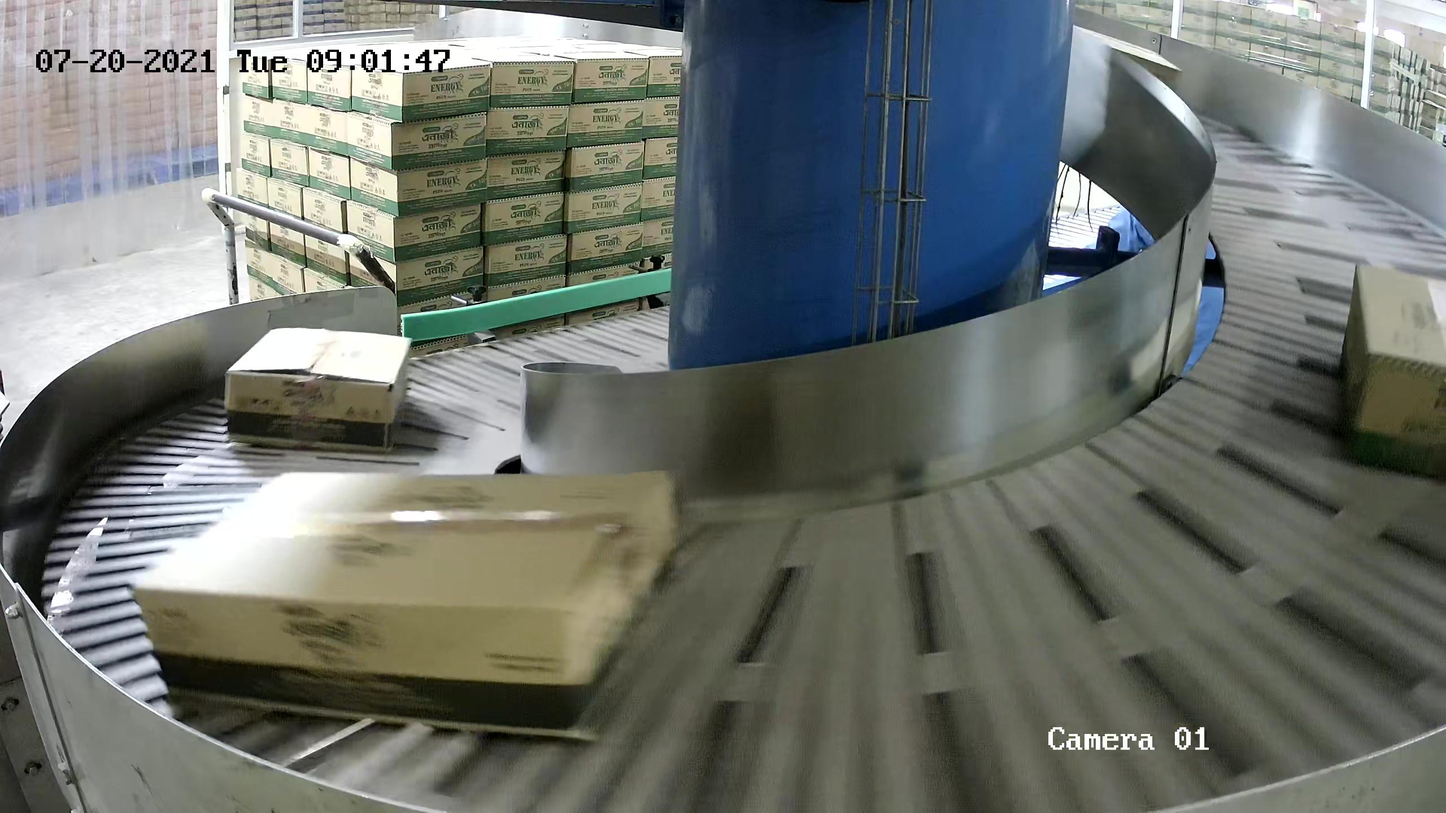Box: (130, 466, 688, 740), (1332, 260, 1446, 491), (222, 326, 413, 454)
